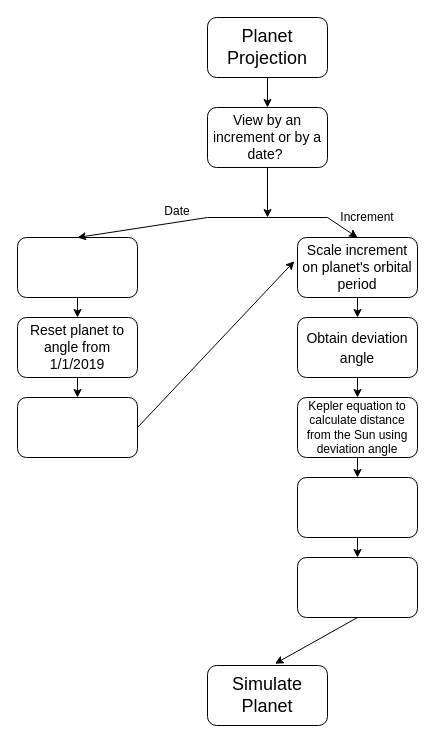
Image size: 435x743. Some labels were removed from this diagram. The box of each missing label's shape, as (x1, y1, x2, y2) in pixels:
Obtain inclination angle and use Euler angle equation to find coordiantes: (296, 476, 418, 538)
Save results to planet object: (296, 556, 418, 618)
Subtract entered date from program's base date (1/1/2019): (16, 236, 138, 298)
Use newly calculated date difference in incremental: (16, 396, 138, 458)
